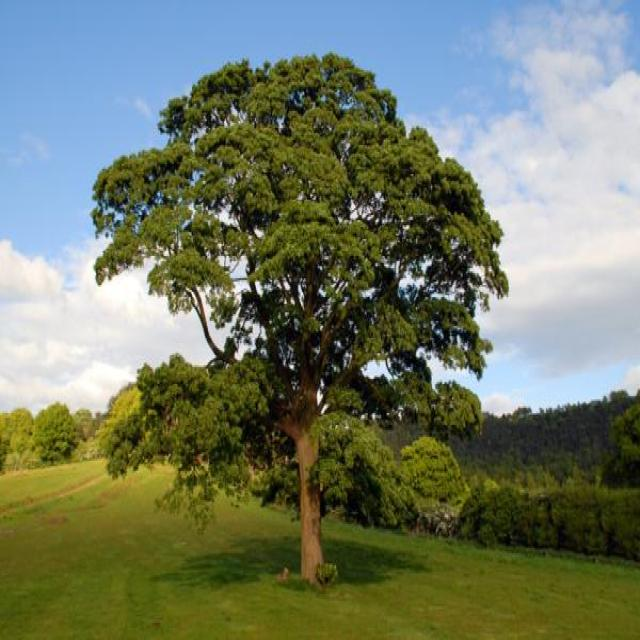roble: (75, 40, 520, 582)
